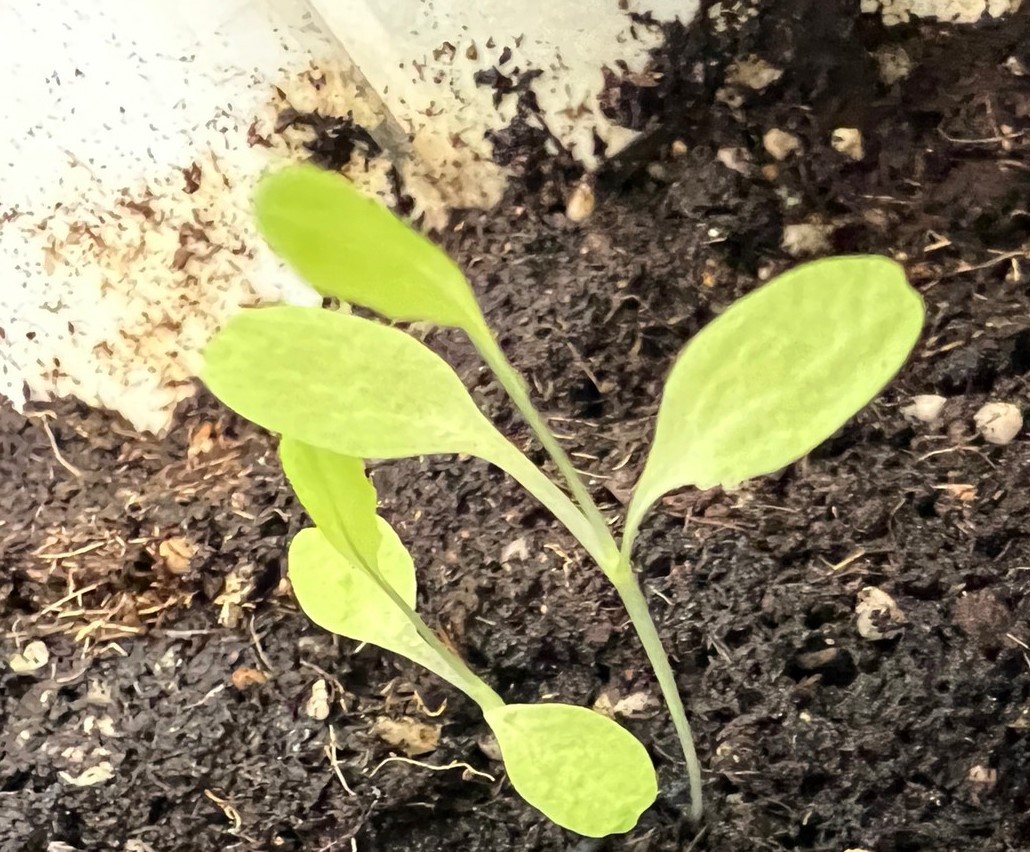week2: (144, 113, 963, 812), (265, 444, 664, 851)
